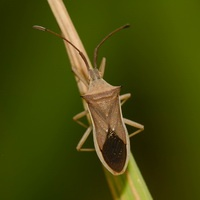insect: (33, 25, 143, 174)
